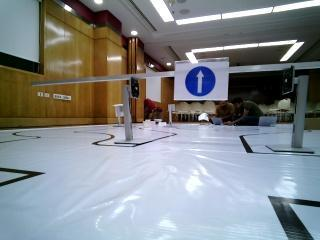straight: (173, 61, 228, 99)
